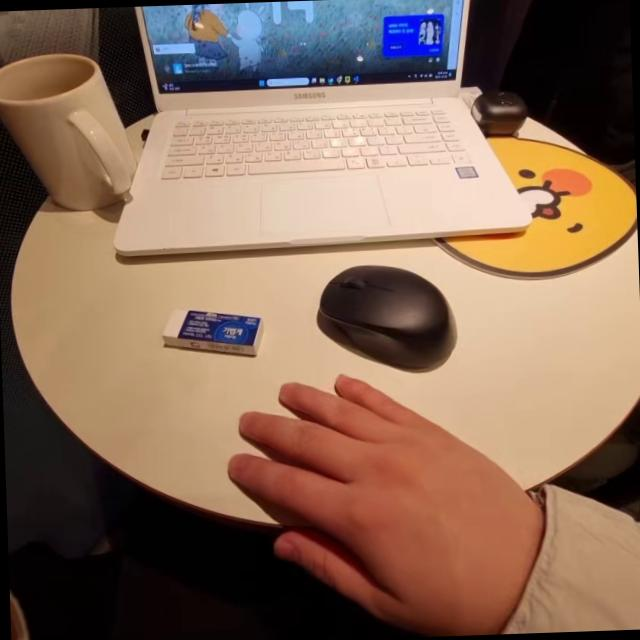eraser: (150, 298, 278, 371)
hand: (226, 370, 554, 640)
mouse: (306, 258, 484, 372)
